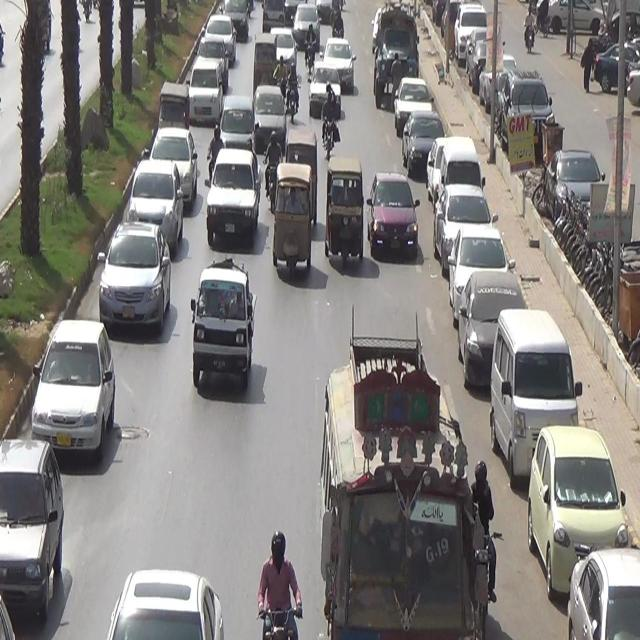car: (17, 283, 119, 480), (0, 420, 69, 612), (87, 201, 170, 333), (204, 154, 260, 260), (123, 153, 183, 250), (365, 170, 421, 267), (145, 133, 191, 200), (320, 40, 366, 99), (176, 52, 219, 115), (193, 10, 239, 66), (247, 94, 287, 146)
motorbike: (247, 520, 307, 638), (317, 76, 342, 154), (205, 128, 225, 179), (289, 66, 303, 133)
truck: (186, 270, 263, 408)
